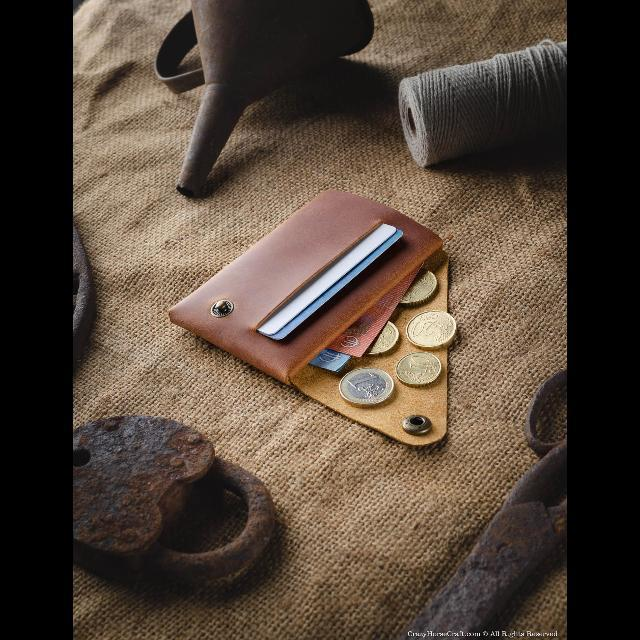wallet: (164, 182, 458, 446)
